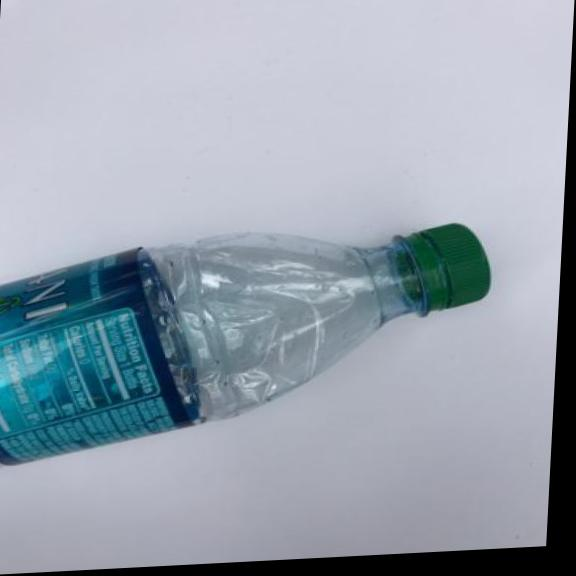Plastik: (0, 213, 500, 474)
